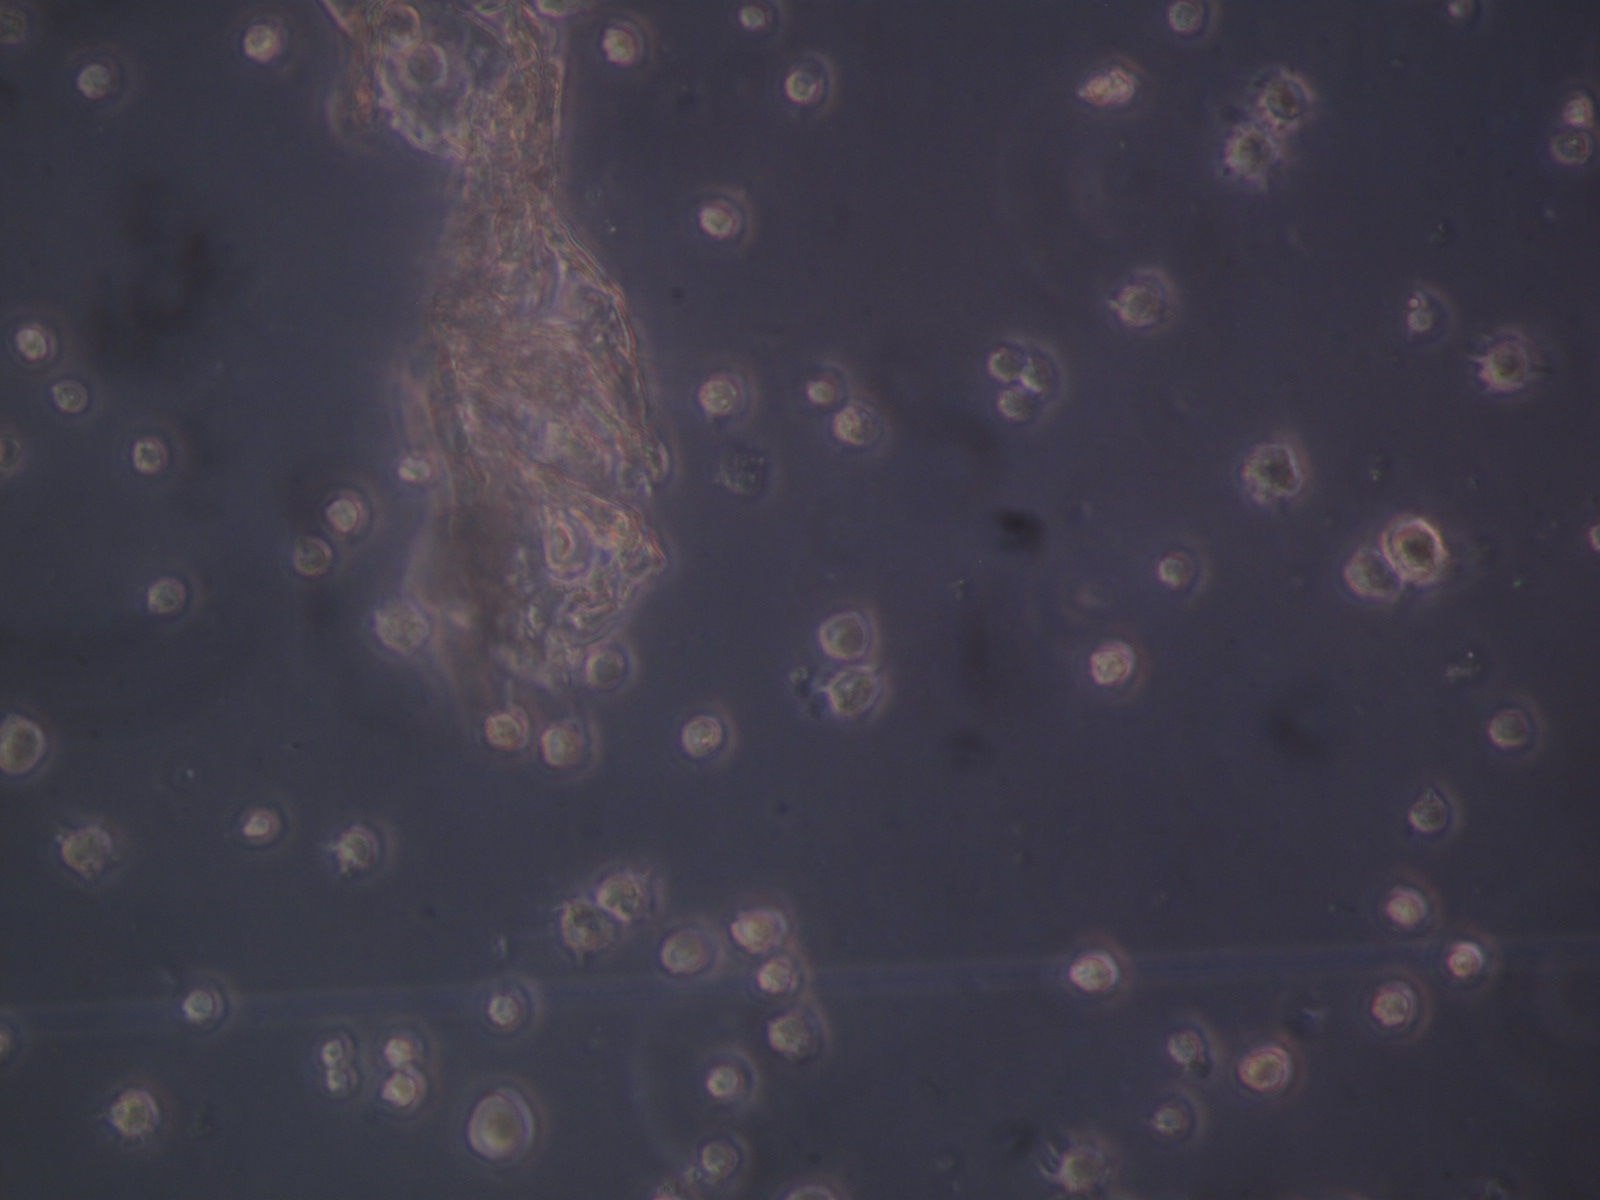hemo: (469, 1063, 551, 1168), (1238, 1025, 1306, 1100), (1065, 928, 1134, 1001), (76, 42, 139, 118), (659, 914, 729, 982), (1382, 516, 1448, 589), (324, 471, 387, 545), (1221, 122, 1286, 192), (1368, 968, 1432, 1039), (1381, 866, 1443, 939), (370, 595, 435, 664), (1112, 268, 1180, 332), (1057, 1129, 1125, 1192), (1489, 691, 1550, 761), (731, 891, 796, 955), (556, 896, 620, 962), (540, 716, 603, 783), (765, 1000, 831, 1063), (1089, 624, 1150, 691), (486, 969, 546, 1039), (597, 863, 668, 921), (680, 702, 738, 771), (826, 663, 893, 722), (698, 357, 761, 418), (1343, 542, 1407, 603), (700, 1046, 761, 1111), (1158, 529, 1213, 597), (598, 8, 656, 72), (1151, 1082, 1208, 1147), (785, 44, 837, 116), (694, 188, 753, 250), (131, 417, 186, 483), (1446, 921, 1499, 987), (820, 603, 879, 661), (336, 818, 397, 875), (1410, 775, 1463, 839), (756, 949, 813, 1008), (1, 711, 50, 776), (585, 640, 639, 700), (1259, 72, 1313, 130), (1252, 440, 1306, 497), (59, 824, 116, 879), (1477, 337, 1533, 389), (700, 1129, 752, 1187), (828, 401, 887, 451), (107, 1087, 163, 1139), (283, 533, 336, 587), (1169, 1012, 1222, 1064), (483, 706, 533, 758), (241, 10, 289, 62), (401, 42, 451, 89), (378, 1066, 428, 1113), (1023, 340, 1065, 396), (1167, 1, 1222, 42), (8, 320, 55, 367), (803, 363, 848, 411), (993, 384, 1041, 429), (986, 334, 1028, 384), (238, 804, 285, 848), (181, 984, 226, 1029), (380, 3, 425, 45), (49, 374, 92, 418), (394, 449, 438, 488), (145, 575, 190, 613), (384, 1027, 425, 1066), (736, 1, 784, 34), (1550, 132, 1592, 169), (323, 1061, 362, 1099), (1560, 89, 1594, 129), (317, 1032, 357, 1066)
